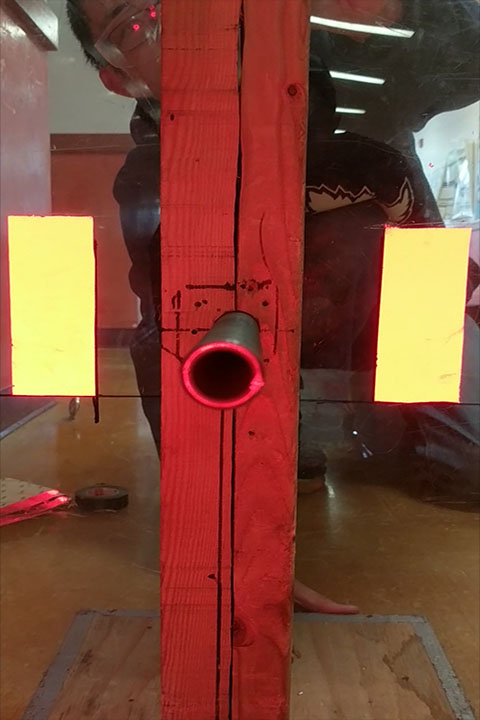gear: (371, 227, 472, 403), (7, 214, 98, 397)
